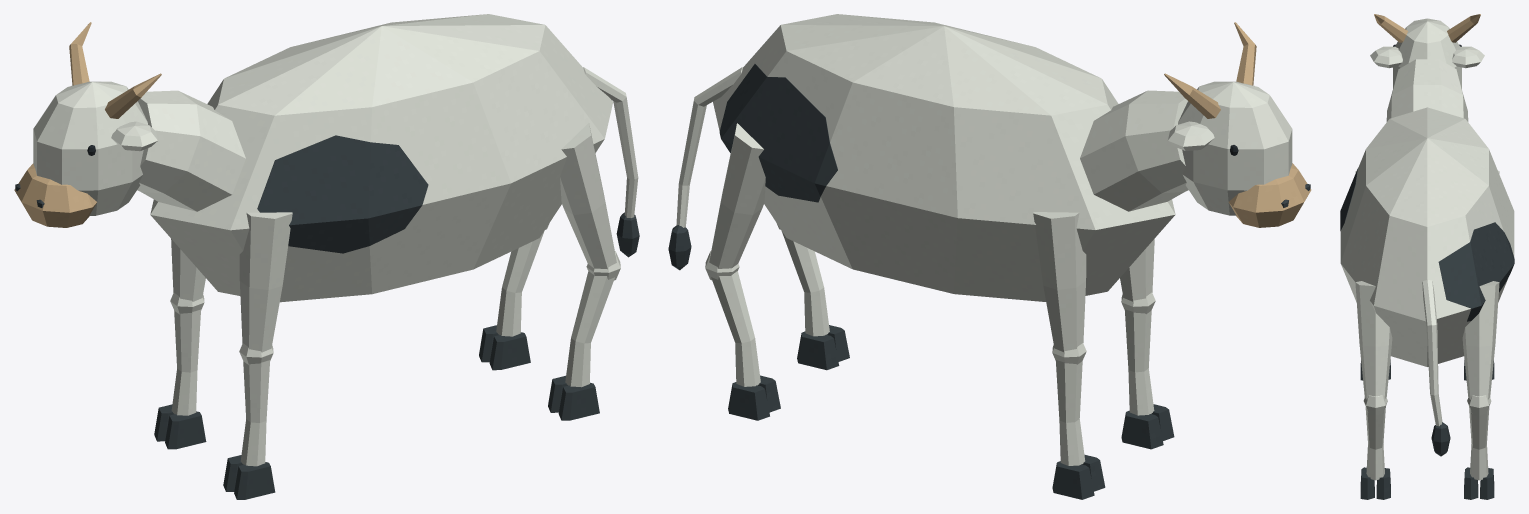
Rendered from background-cow.glb.
3 views of the same model, side by side, from view 1: azimuth 30°, elevation 25°; view 2: azimuth 150°, elevation 25°; view 3: azimuth 270°, elevation 25° (orthographic). The views are drawn at different scales.
Visible parts, largest first — view 1: Animal sculpted torso 001, Facet-conforming cow coat 033, Distinct animal head 023, Distinct tapered animal neck 022, Tapered articulated upper leg 002, Tapered articulated upper leg 012, Cow broad muzzle 028, Tapered lower leg and pastern 014, Tapered lower leg and pastern 009, Tapered lower leg and pastern 004, Tapered lower leg and pastern 019, Cow hanging tail 035 (+9 smaller); view 2: Animal sculpted torso 001, Distinct animal head 023, Distinct tapered animal neck 022, Facet-conforming cow coat 034, Tapered articulated upper leg 007, Tapered articulated upper leg 017, Cow broad muzzle 028, Tapered lower leg and pastern 019, Tapered lower leg and pastern 004, Tapered lower leg and pastern 009, Tapered lower leg and pastern 014, Cow hanging tail 035 (+9 smaller); view 3: Animal sculpted torso 001, Facet-conforming cow coat 034, Distinct tapered animal neck 022, Tapered articulated upper leg 012, Tapered articulated upper leg 017, Distinct animal head 023, Cow hanging tail 035, Tapered lower leg and pastern 014, Tapered lower leg and pastern 019, Tapered animal ear 024, Tapered animal ear 026, Cow tail hair tuft 036 (+9 smaller).
Part boxes in pixels (left/top/right/bottom): Animal sculpted torso 001: left=150, top=14, right=613, bottom=302; Facet-conforming cow coat 033: left=257, top=135, right=428, bottom=253; Distinct animal head 023: left=33, top=81, right=147, bottom=215; Distinct tapered animal neck 022: left=137, top=90, right=245, bottom=211; Tapered articulated upper leg 002: left=239, top=212, right=292, bottom=352; Tapered articulated upper leg 012: left=560, top=123, right=616, bottom=269; Cow broad muzzle 028: left=14, top=163, right=96, bottom=227; Tapered lower leg and pastern 014: left=565, top=271, right=614, bottom=387; Tapered lower leg and pastern 009: left=171, top=309, right=200, bottom=415; Tapered lower leg and pastern 004: left=240, top=360, right=270, bottom=466; Tapered lower leg and pastern 019: left=496, top=230, right=544, bottom=336; Cow hanging tail 035: left=583, top=67, right=638, bottom=217; Animal sculpted torso 001: left=713, top=14, right=1175, bottom=301; Distinct animal head 023: left=1178, top=81, right=1292, bottom=215; Distinct tapered animal neck 022: left=1080, top=90, right=1188, bottom=211; Facet-conforming cow coat 034: left=719, top=64, right=837, bottom=202; Tapered articulated upper leg 007: left=1033, top=212, right=1086, bottom=352; Tapered articulated upper leg 017: left=709, top=123, right=765, bottom=268; Cow broad muzzle 028: left=1228, top=163, right=1311, bottom=227; Tapered lower leg and pastern 019: left=711, top=271, right=760, bottom=386; Tapered lower leg and pastern 004: left=1124, top=309, right=1154, bottom=415; Tapered lower leg and pastern 009: left=1055, top=360, right=1085, bottom=465; Tapered lower leg and pastern 014: left=781, top=230, right=829, bottom=336; Cow hanging tail 035: left=676, top=67, right=742, bottom=227; Animal sculpted torso 001: left=1340, top=107, right=1514, bottom=366; Facet-conforming cow coat 034: left=1438, top=222, right=1514, bottom=321; Distinct tapered animal neck 022: left=1386, top=59, right=1468, bottom=121; Tapered articulated upper leg 012: left=1355, top=281, right=1392, bottom=399; Tapered articulated upper leg 017: left=1462, top=281, right=1499, bottom=399; Distinct animal head 023: left=1393, top=18, right=1461, bottom=89; Cow hanging tail 035: left=1422, top=280, right=1442, bottom=426; Tapered lower leg and pastern 014: left=1365, top=407, right=1385, bottom=480; Tapered lower leg and pastern 019: left=1469, top=407, right=1489, bottom=480; Tapered animal ear 024: left=1370, top=46, right=1402, bottom=68; Tapered animal ear 026: left=1452, top=46, right=1484, bottom=68; Cow tail hair tuft 036: left=1431, top=422, right=1450, bottom=456.
Size of the model in its own units: 2.21 by 1.47 by 0.7106.
Materials: 4 (4 with a texture image).
